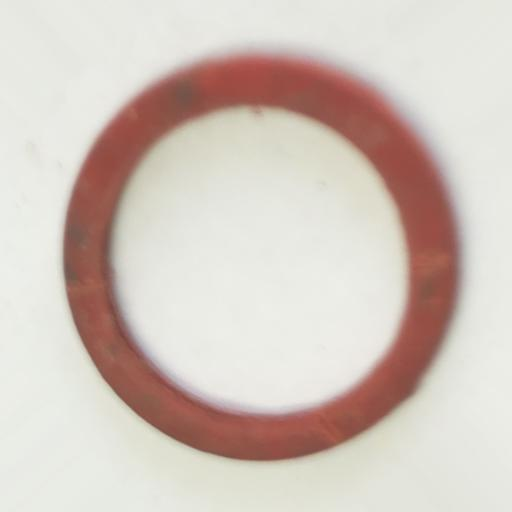defect: (410, 249, 454, 277), (316, 413, 342, 443), (66, 277, 102, 294), (410, 298, 450, 308)
